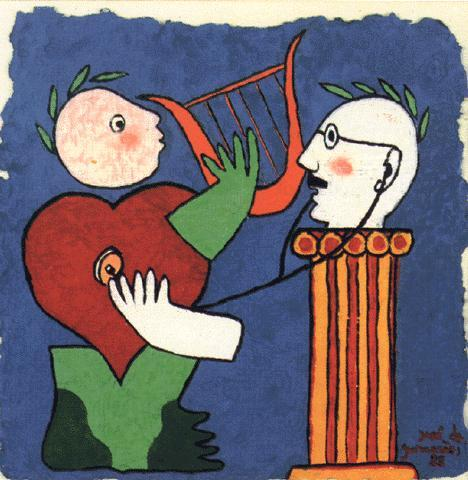person: (23, 79, 257, 476), (304, 92, 417, 236)
